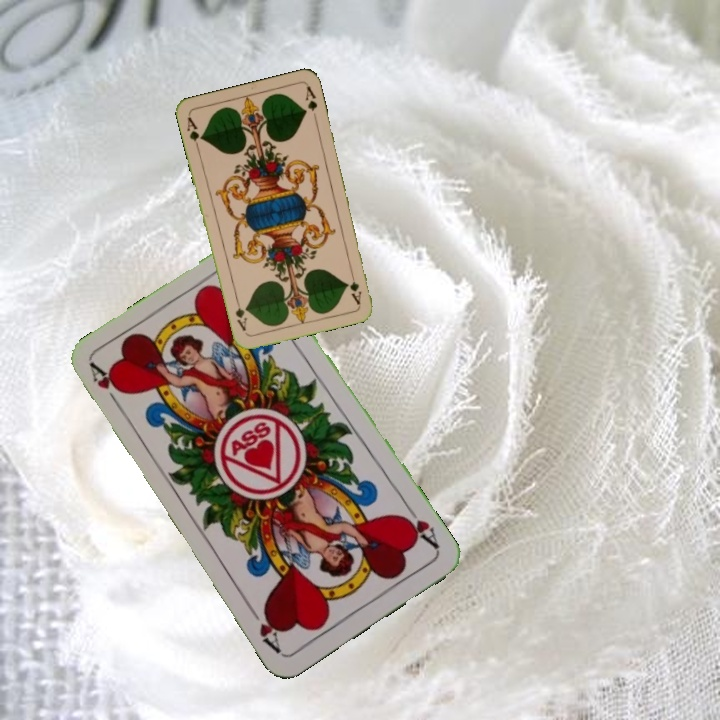GA: (183, 113, 205, 152), (346, 266, 364, 307)
HA: (397, 500, 442, 553), (85, 360, 126, 413)
